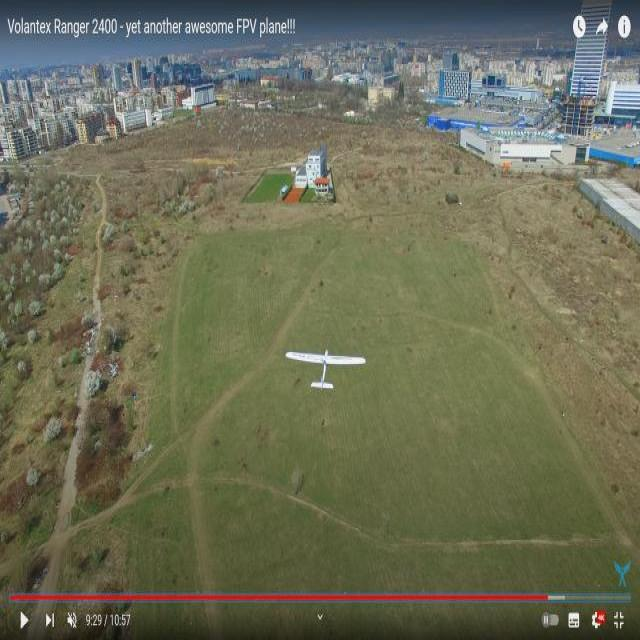iha: (314, 363, 338, 382)
